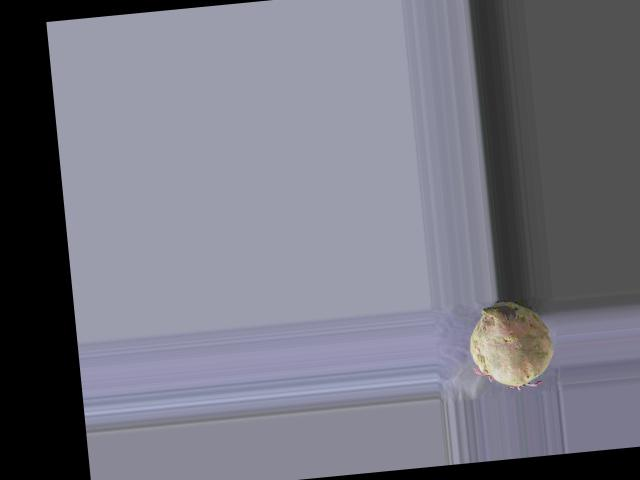beet: (465, 298, 556, 393)
